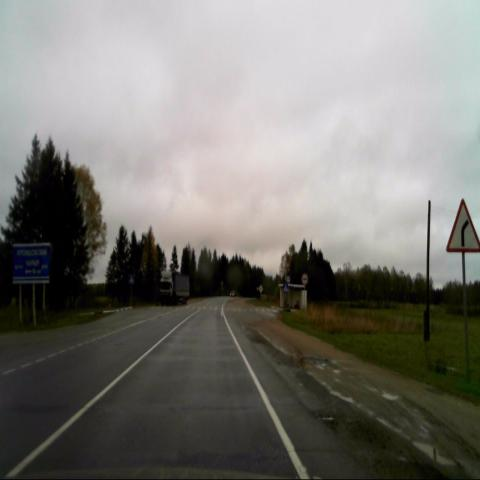1_11: (446, 197, 480, 253)
